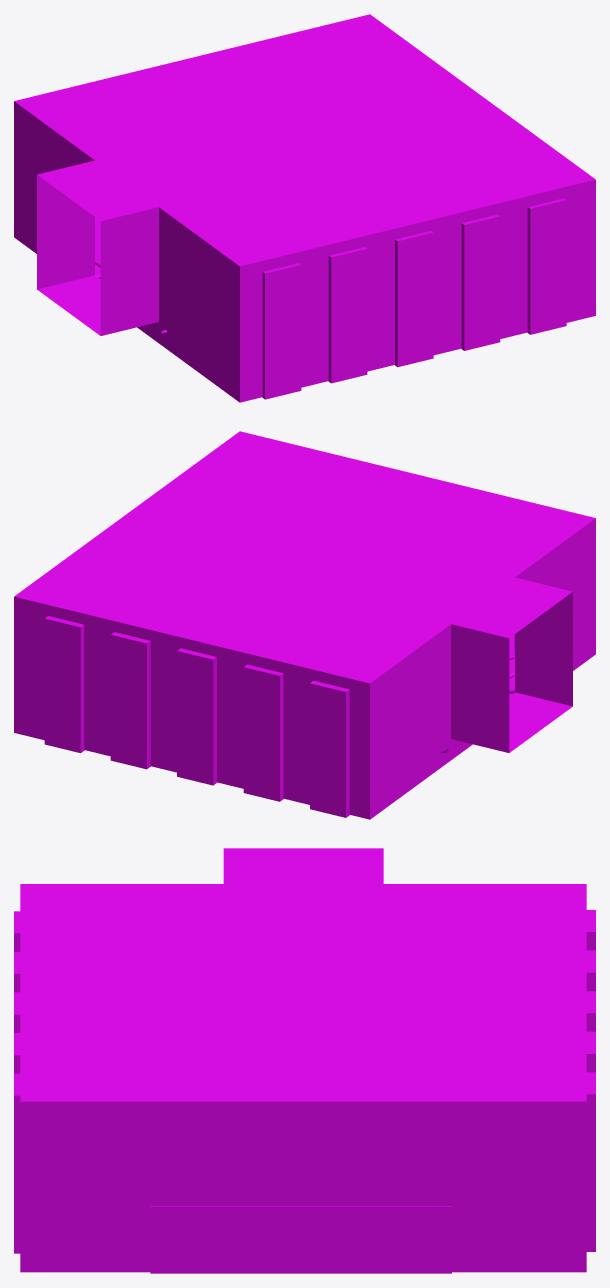
File: StanzaPrigione.fbx
3 views of the same model, one above another, from view 1: azimuth 30°, elevation 25°; view 2: azimuth 150°, elevation 25°; view 3: azimuth 270°, elevation 25° (orthographic). The views are drawn at different scales.
Parts seen in each view (by area): view 1: polySurface43, pCube14 (×5); view 2: polySurface43, pCube14 (×5); view 3: polySurface43, pCube11, pCube14 (×2).
Boxes of the visible parts, bbox=[...] form: polySurface43: bbox=[14, 14, 595, 402]; pCube14 (×5): bbox=[262, 198, 566, 399]; polySurface43: bbox=[14, 431, 595, 819]; pCube14 (×5): bbox=[44, 616, 349, 817]; polySurface43: bbox=[20, 848, 586, 1272]; pCube11: bbox=[150, 1206, 451, 1273]; pCube14 (×2): bbox=[14, 1072, 595, 1253].
Size of the model in its own units: 2.5 by 1.03 by 2.42.
